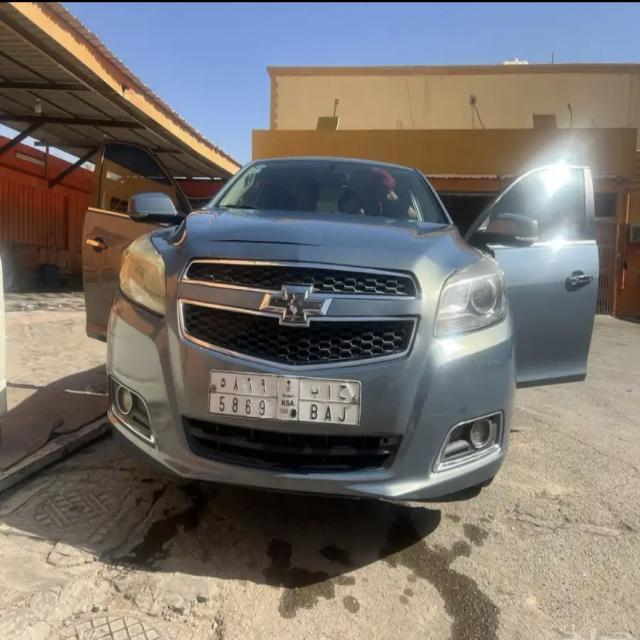license_plate: (208, 369, 372, 432)
